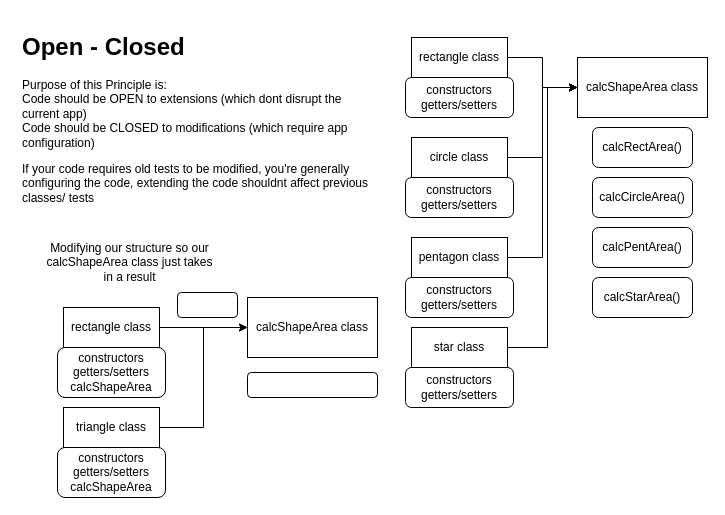
The diagram is 725 pixels wide and 515 high, and some of its shapes have lost their labels. Here are the shapes that lost their labels. From the top down, the centre of each, then its label:
At (x=207, y=305): "calcShape()".
At (x=312, y=385): "returnShapeArea(int area)".
